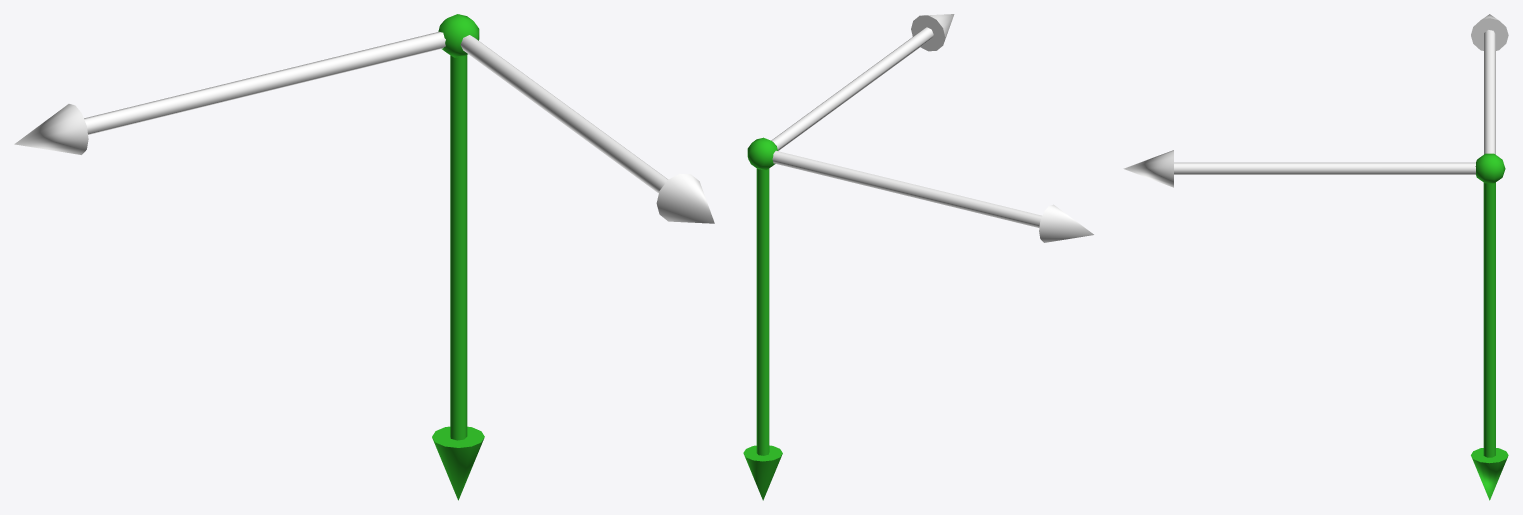
The model's file is CSys 1.fbx.
The picture shows the model from 3 angles, left to right: view 1: azimuth 30°, elevation 25°; view 2: azimuth 150°, elevation 25°; view 3: azimuth 270°, elevation 25°; orthographic projection. The views are drawn at different scales.
Visible parts, largest first — view 1: RightHanded; view 2: RightHanded; view 3: RightHanded.
Part boxes in pixels (left/top/right/bottom): RightHanded: left=14, top=14, right=714, bottom=500; RightHanded: left=743, top=14, right=1093, bottom=500; RightHanded: left=1123, top=14, right=1508, bottom=500.
Size of the model in its own units: 122 by 122 by 122.
